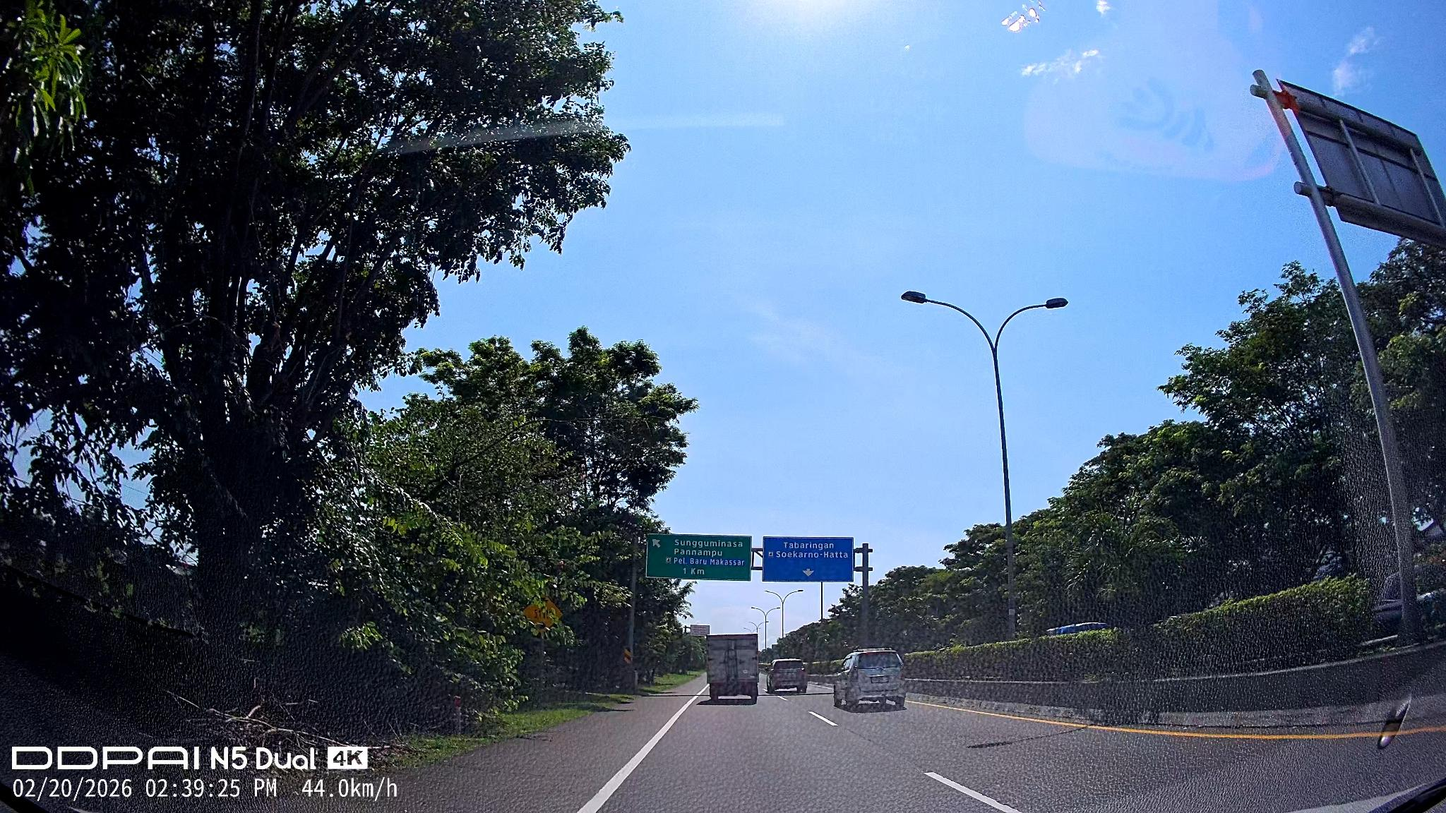rambu_teks: (645, 533, 752, 582), (762, 536, 854, 583)
